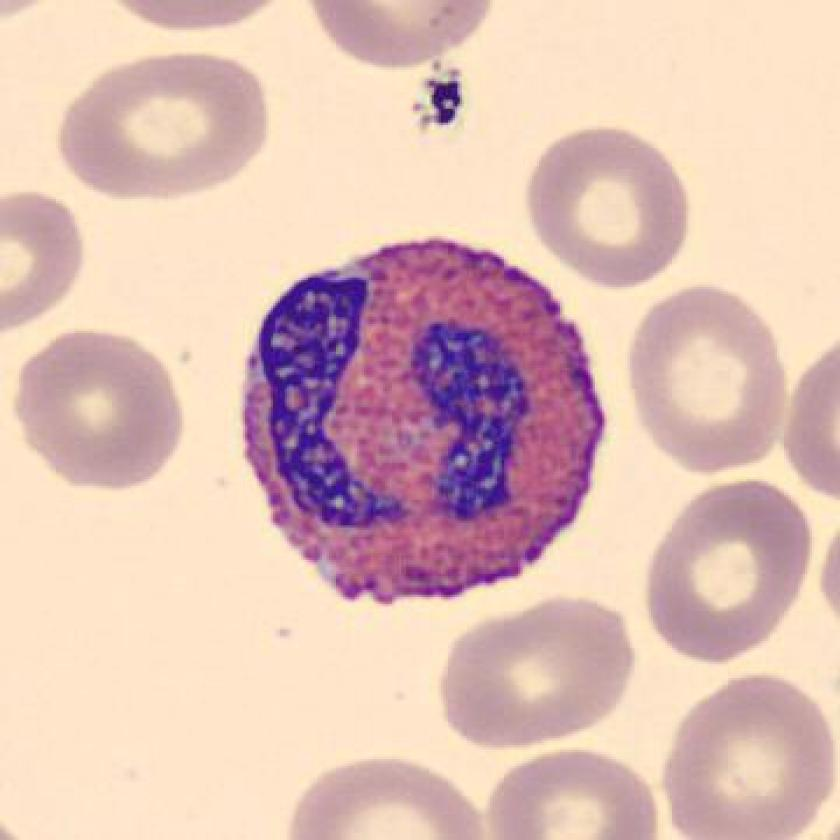eosinophil: (225, 226, 626, 617)
